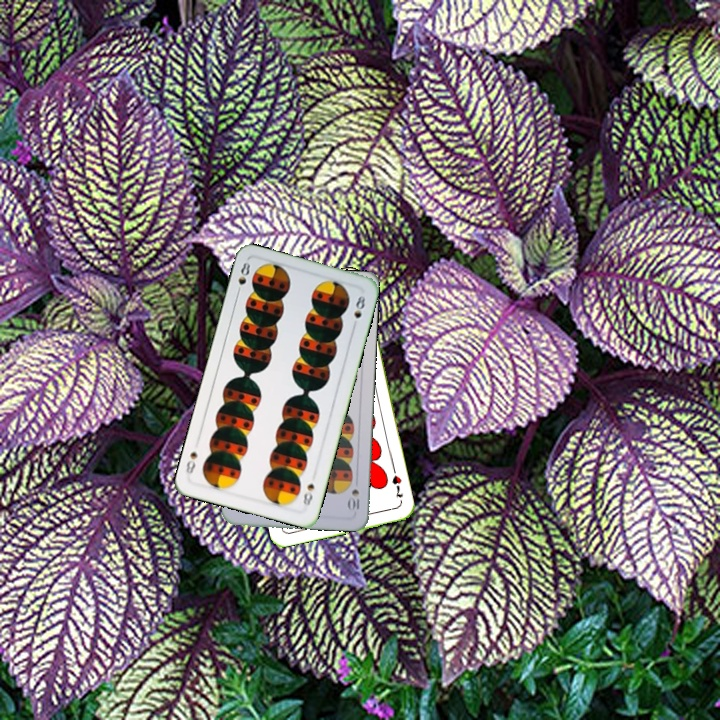H7: (388, 465, 406, 501)
S10: (345, 485, 362, 512)
S8: (233, 258, 253, 298), (299, 479, 317, 512)
